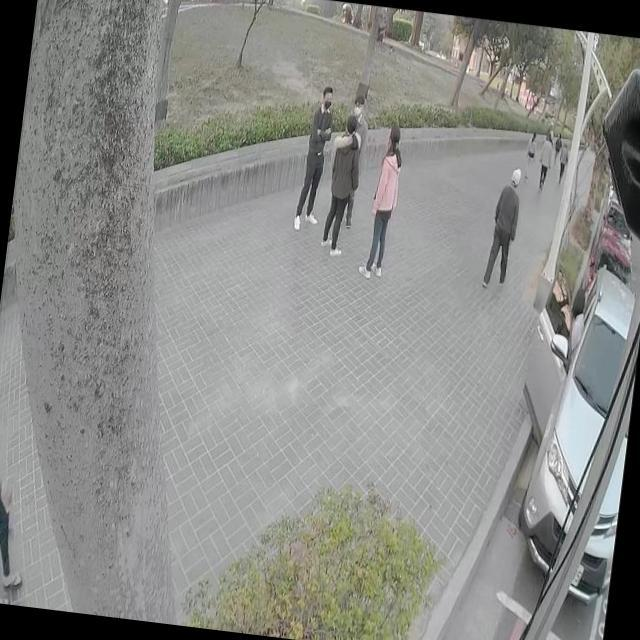person: (361, 119, 405, 281), (335, 82, 375, 234), (294, 87, 334, 233), (319, 120, 360, 250), (484, 162, 526, 282), (536, 134, 554, 192), (522, 131, 538, 179), (554, 138, 569, 180)
